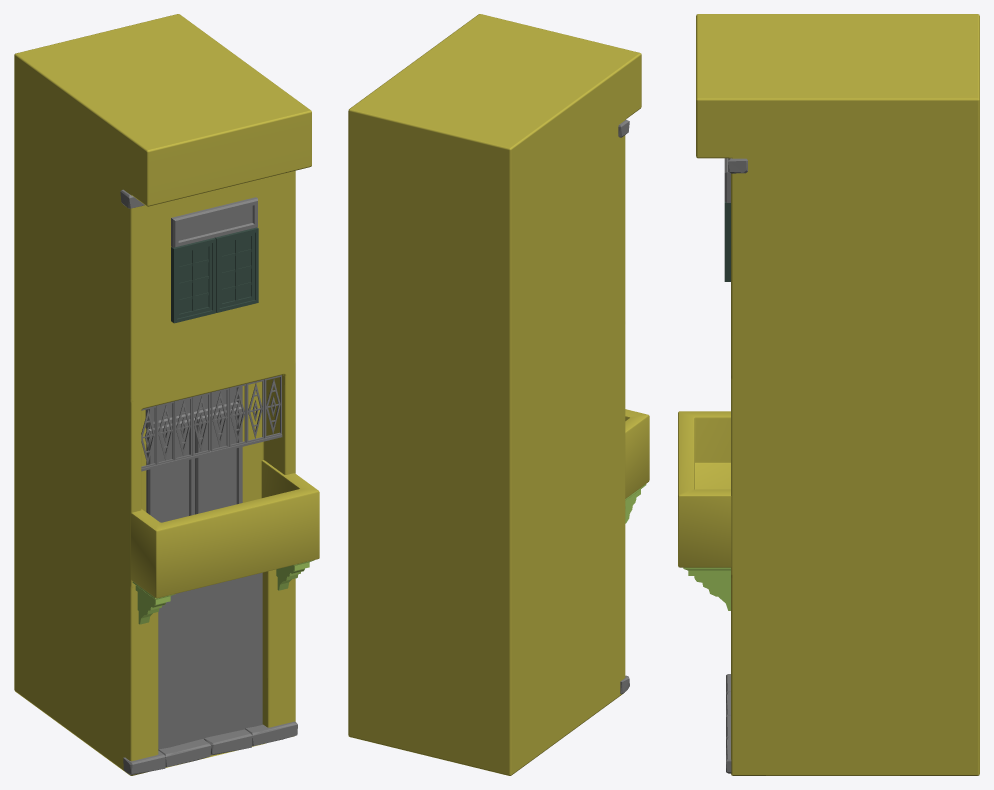
The model's file is SM_building_shop_01.fbx.
The picture shows the model from 3 angles, left to right: view 1: azimuth 30°, elevation 25°; view 2: azimuth 150°, elevation 25°; view 3: azimuth 270°, elevation 25°; orthographic projection. The views are drawn at different scales.
Visible parts, largest first — view 1: Object32684; view 2: Object32684; view 3: Object32684.
Boxes of the visible parts, <box> form: Object32684: <box>14,14,319,775</box>; Object32684: <box>348,14,649,775</box>; Object32684: <box>678,14,979,775</box>.
Bounding box in the file's own units: 116 × 414 × 167.
